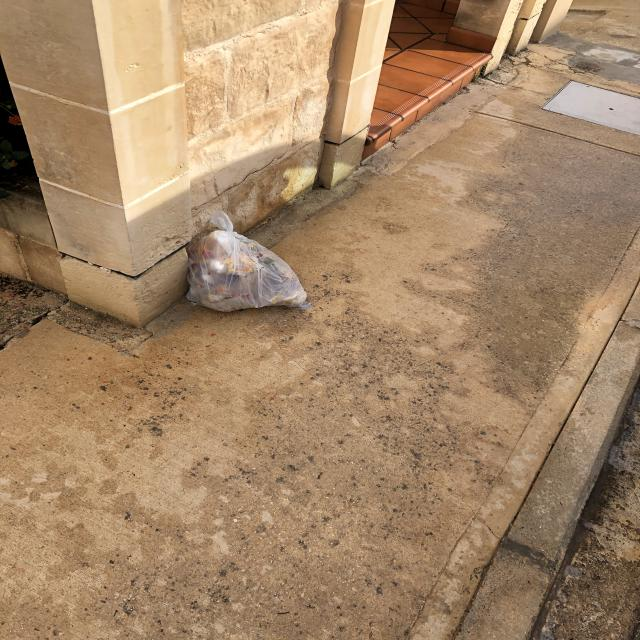Organic Waste -White Bag-: (182, 206, 309, 320)
